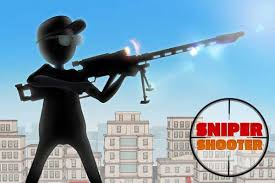gun: (14, 29, 245, 101)
